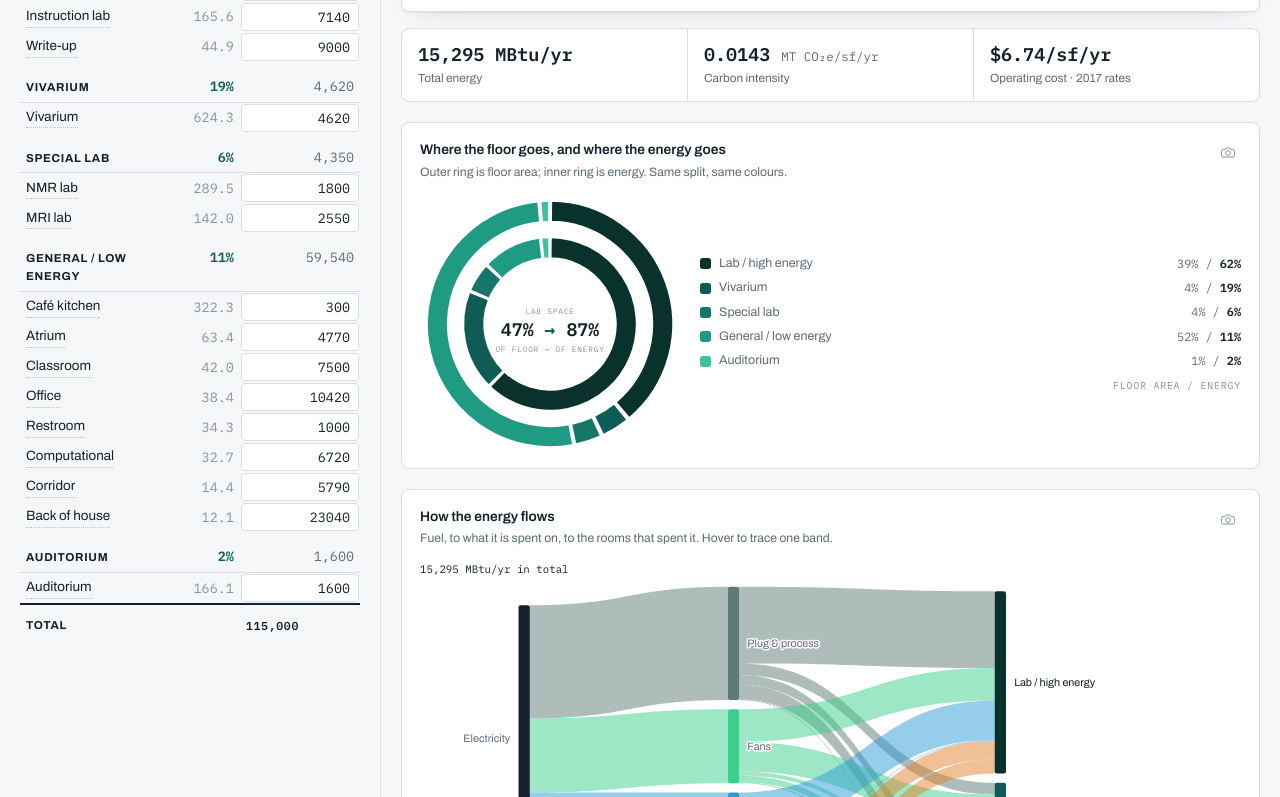
Scenario: editing › accepts a number typed with thousands separators
The image size is (1280, 797).
(page scrolled)
Replace the text in the field named "Office area, sf" with "20,000" at (300, 397), box left=241, top=383, right=359, bottom=411
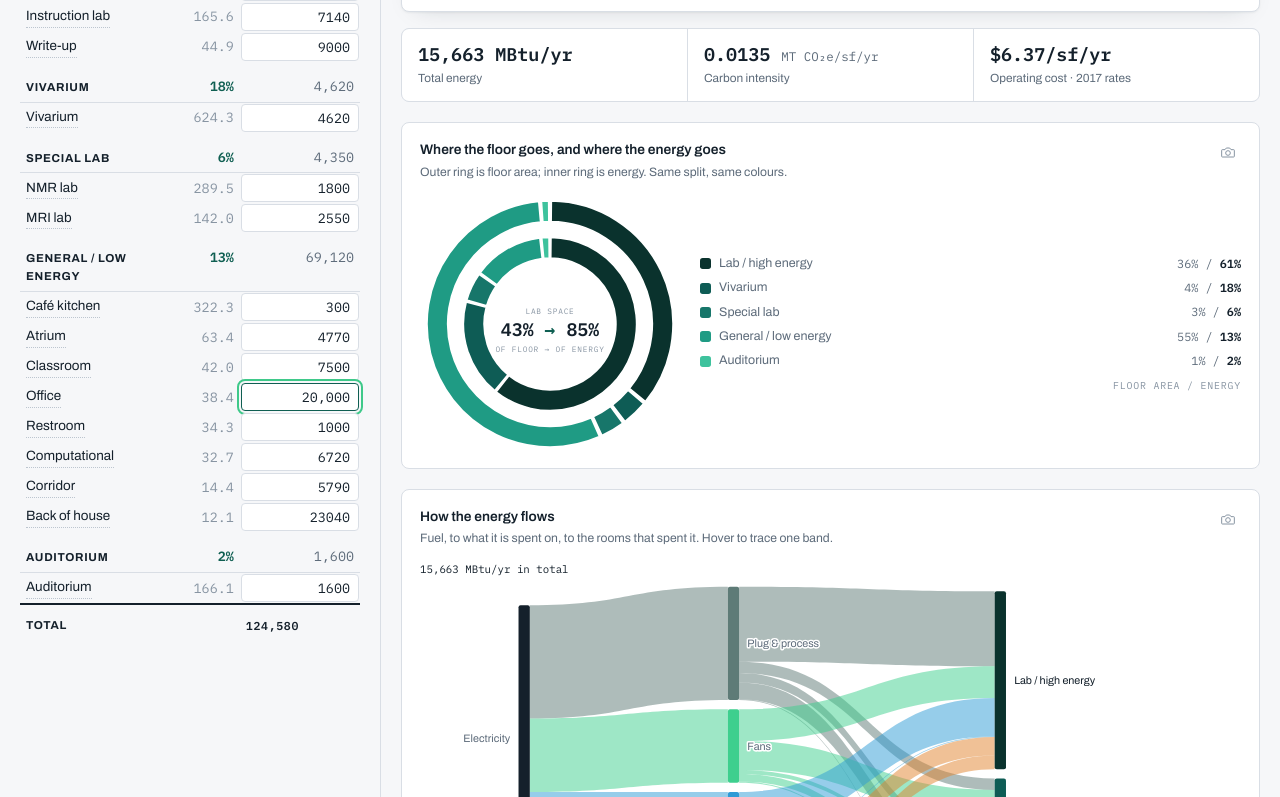
Expected: the text "124,580" is shown, left=240, top=604, right=360, bottom=635
